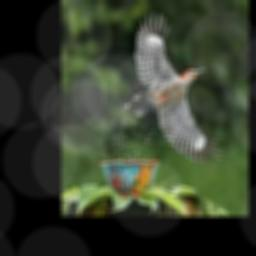Woodpecker: (128, 13, 224, 164)
